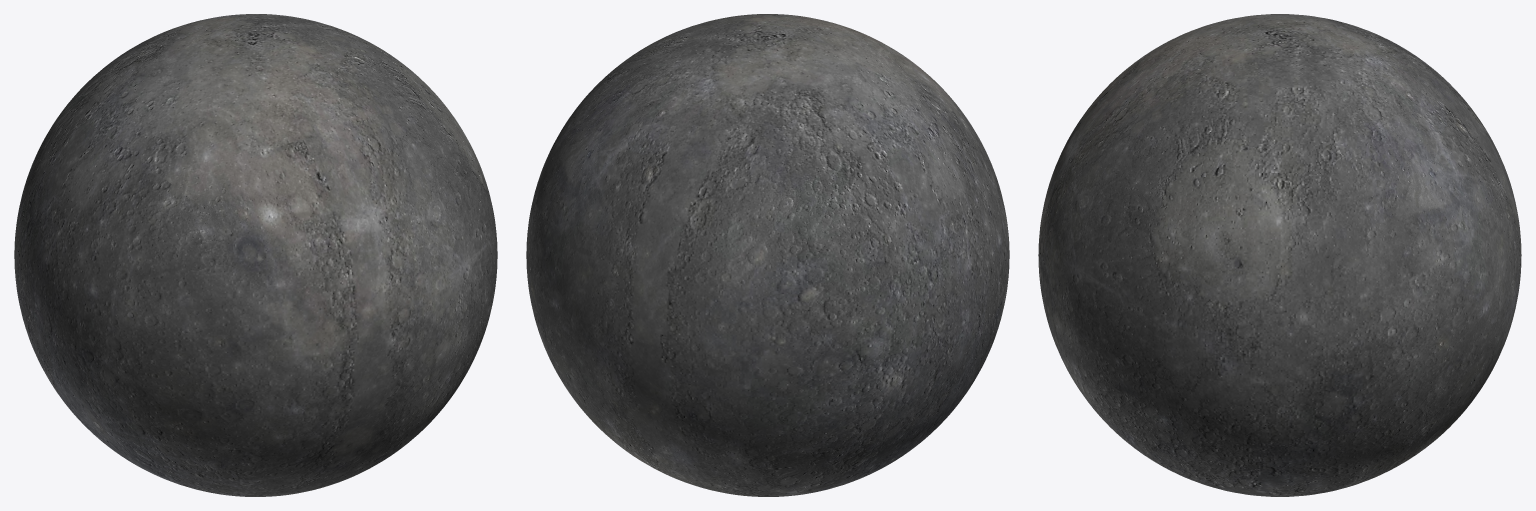
The model's file is mercury.glb.
3 views of the same model, side by side, from view 1: azimuth 30°, elevation 25°; view 2: azimuth 150°, elevation 25°; view 3: azimuth 270°, elevation 25° (orthographic).
Parts seen in each view (by area): view 1: Body; view 2: Body; view 3: Body.
Part boxes in pixels (x1,y1,x2,y2): Body: [14, 14, 497, 496]; Body: [526, 14, 1009, 496]; Body: [1038, 14, 1521, 496].
Size of the model in its own units: 2 by 2 by 2.
1 material, 1 textured.
